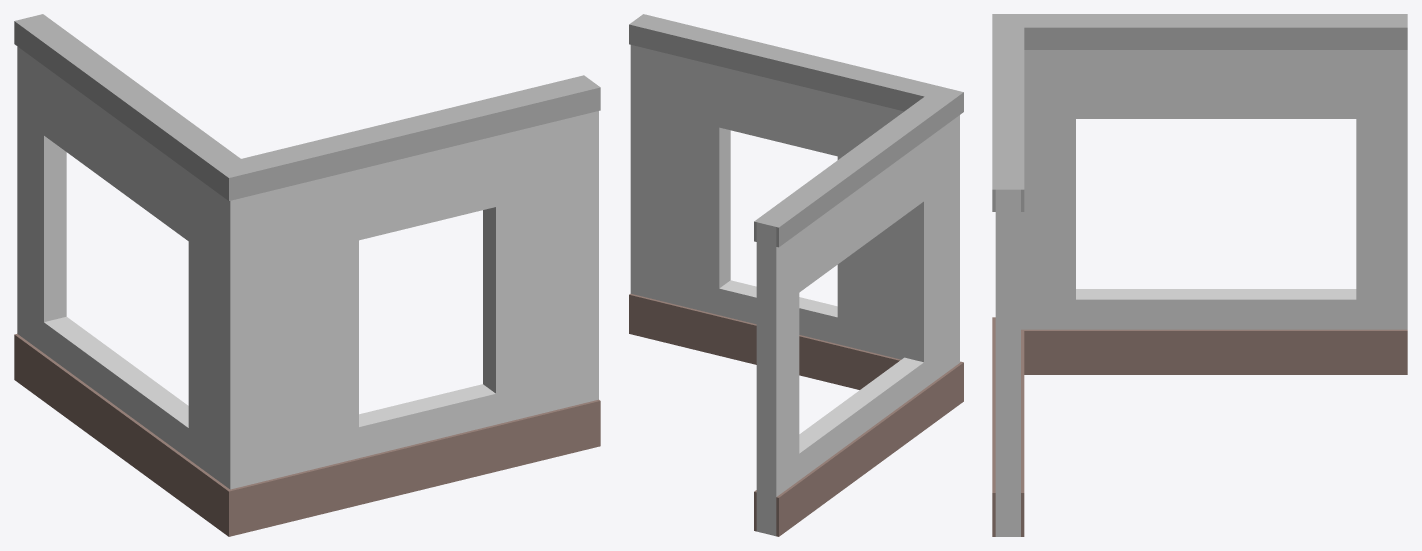
File: Wall04-05.fbx
The picture shows the model from 3 angles, left to right: view 1: azimuth 30°, elevation 25°; view 2: azimuth 150°, elevation 25°; view 3: azimuth 270°, elevation 25°; orthographic projection. The views are drawn at different scales.
Visible parts, largest first — view 1: Wall04-05; view 2: Wall04-05; view 3: Wall04-05.
Boxes of the visible parts, x1=… form: Wall04-05: x1=14, y1=14, x2=600, y2=536; Wall04-05: x1=629, y1=14, x2=963, y2=536; Wall04-05: x1=992, y1=14, x2=1407, y2=536.
Size of the model in its own units: 3.25 by 3.25 by 3.
